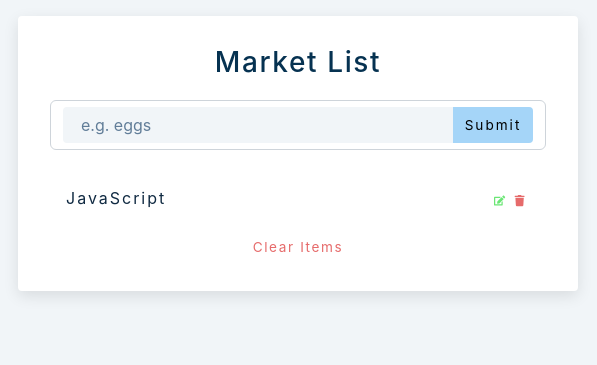
test clear all button
Step 1. Click the button "submit" → coordinates (493, 125), box [453,107,533,143]
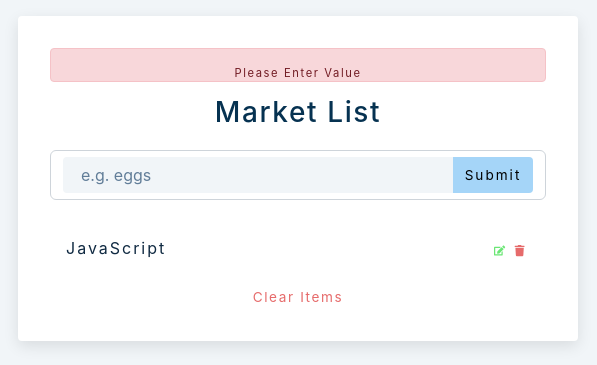
Step 2. Click the button "clear items" → coordinates (298, 297), box [218,285,378,309]
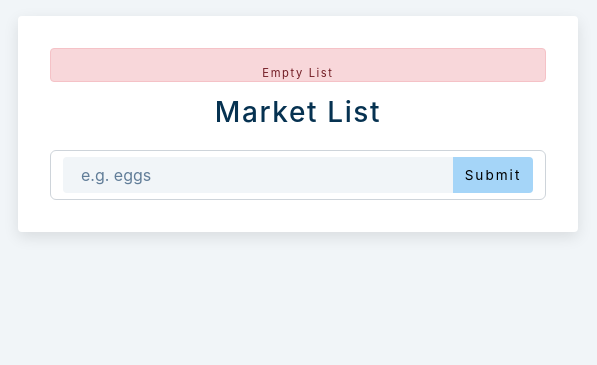
Now the element with test id "marketContainer" is gone
